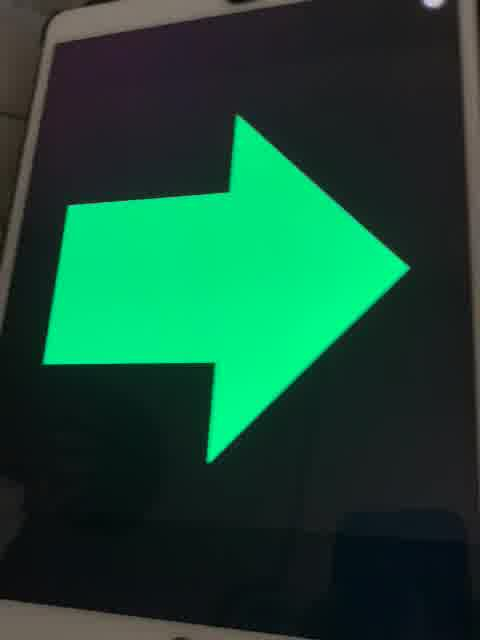right: (42, 100, 413, 470)
